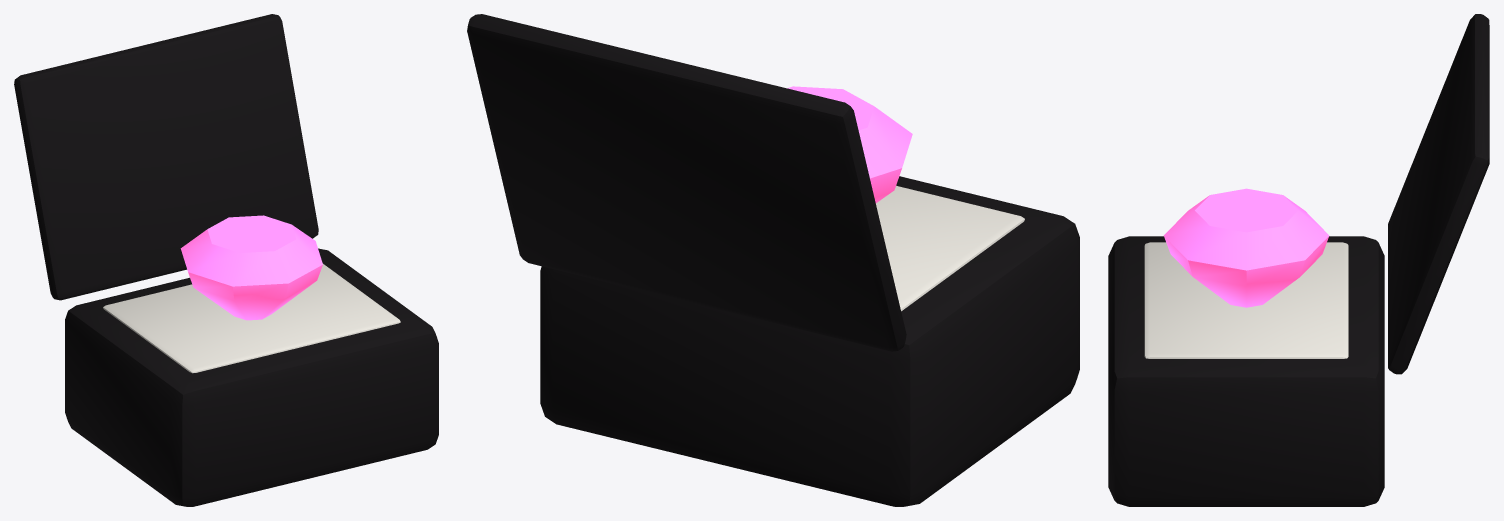
File: mae_rose.glb
3 views of the same model, side by side, from view 1: azimuth 30°, elevation 25°; view 2: azimuth 150°, elevation 25°; view 3: azimuth 270°, elevation 25° (orthographic). The views are drawn at different scales.
Parts seen in each view (by area): view 1: mae_rose; view 2: mae_rose; view 3: mae_rose.
Part boxes in pixels (bbox=[...]): mae_rose: bbox=[14, 14, 438, 506]; mae_rose: bbox=[467, 14, 1079, 506]; mae_rose: bbox=[1108, 14, 1489, 506].
Bounding box in the file's own units: 0.1 × 0.1146 × 0.1104.
